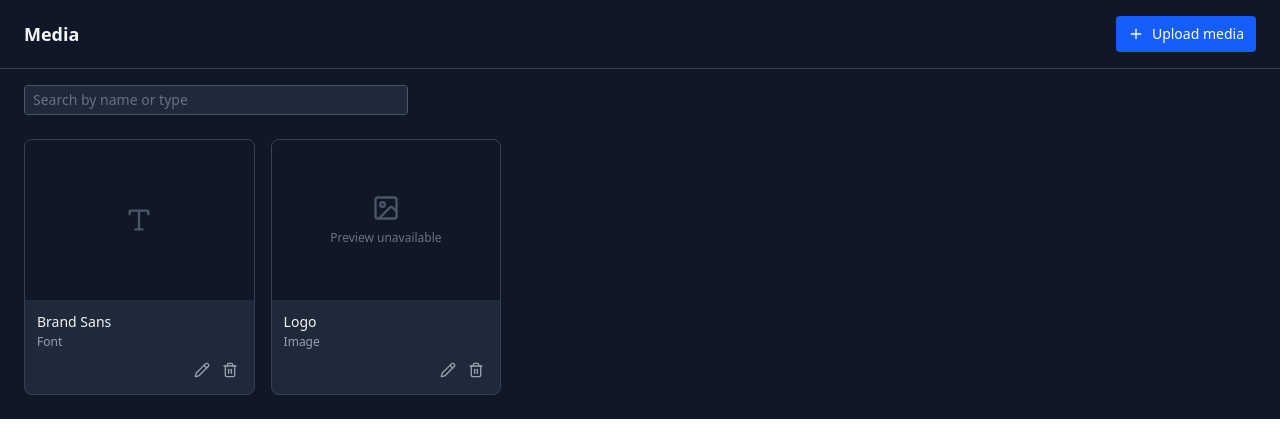
Test: MediaSection › narrows the grid through the search input
Expected: the text "Brand Sans" is shown, 37,312 -> 111,332
In the field labelled "Search by name or type": (216, 100) 24,85 -> 408,115, type "logo"
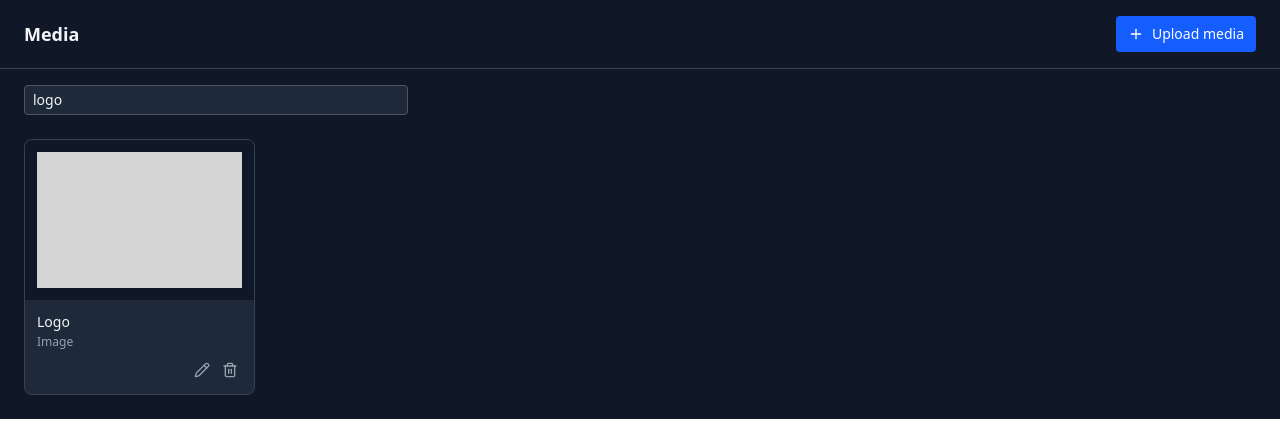
Expected: the text "Logo" is shown, 37,312 -> 70,332
Expected: the text "Brand Sans" is gone
